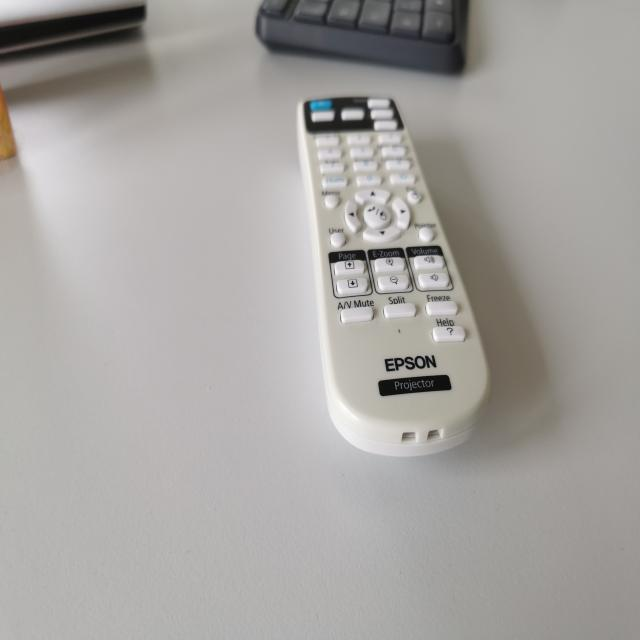remote: (296, 87, 497, 464)
